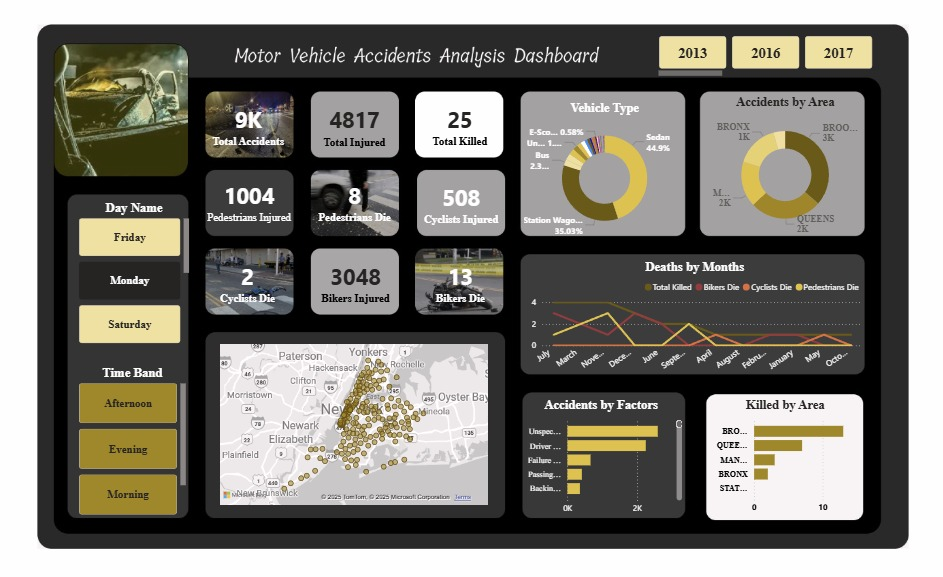

The dashboard page shown, as its layout file describes it:
{"tool":"powerbi","page":{"name":"Page 1","canvas":[1820,1096],"ordinal":0},"visuals":[{"type":"card","fields":{"Values":["Motor_Vehicle_Collisions_-_CrashesFINAL.Total Collison"]},"box":[509.3,270.7,141.3,76],"z":0},{"type":"card","fields":{"Values":["Motor_Vehicle_Collisions_-_CrashesFINAL.Total Injured"]},"box":[670.7,262.7,130.7,92],"z":1000},{"type":"card","fields":{"Values":["Motor_Vehicle_Collisions_-_CrashesFINAL.Total Killed"]},"box":[810.7,257.3,161.3,102.7],"z":2000},{"type":"card","fields":{"Values":["Motor_Vehicle_Collisions_-_CrashesFINAL.Pedestrians Injured"]},"box":[509.3,360,144,120],"z":3000},{"type":"card","fields":{"Values":["Motor_Vehicle_Collisions_-_CrashesFINAL.Pedestrians Die"]},"box":[648,357.3,174.7,124],"z":4000},{"type":"card","fields":{"Values":["Motor_Vehicle_Collisions_-_CrashesFINAL.Cyclists Injured"]},"box":[824.2,367.7,135.5,111.3],"z":5000},{"type":"card","fields":{"Values":["Motor_Vehicle_Collisions_-_CrashesFINAL.Bikers Die"]},"box":[829,493.5,125.8,90.3],"z":6000},{"type":"card","fields":{"Values":["Motor_Vehicle_Collisions_-_CrashesFINAL.Cyclists Die"]},"box":[509.7,479,135.5,119.4],"z":7000},{"type":"card","fields":{"Values":["Motor_Vehicle_Collisions_-_CrashesFINAL.Bikers Injured"]},"box":[650,453.2,174.2,171],"z":8000},{"type":"lineChart","title":"Deaths by Months","fields":{"Y":["Motor_Vehicle_Collisions_-_CrashesFINAL.Total Killed","Motor_Vehicle_Collisions_-_CrashesFINAL.Bikers Die","Motor_Vehicle_Collisions_-_CrashesFINAL.Cyclists Die","Motor_Vehicle_Collisions_-_CrashesFINAL.Pedestrians Die"],"Category":["Motor_Vehicle_Collisions_-_CrashesFINAL.Month Name"]},"box":[983.9,504.8,501.6,174.2],"z":9000},{"type":"donutChart","title":"Vehicle Type","fields":{"Category":["Motor_Vehicle_Collisions_-_CrashesFINAL.VEHICLE TYPE CODE 1"],"Y":["CountNonNull(Motor_Vehicle_Collisions_-_CrashesFINAL.VEHICLE TYPE CODE 1)"]},"box":[983.9,271,237.1,206.5],"z":10000},{"type":"barChart","title":"Accidents by Factors","fields":{"Category":["Motor_Vehicle_Collisions_-_CrashesFINAL.CONTRIBUTING FACTOR VEHICLE 1"],"Y":["Motor_Vehicle_Collisions_-_CrashesFINAL.Total Accidents"]},"box":[972.6,706.5,248.4,180.6],"z":11000},{"type":"advancedSlicerVisual","fields":{"Values":["Motor_Vehicle_Collisions_-_CrashesFINAL.Day Name"]},"box":[325.8,419.4,172.6,216.1],"z":12000},{"type":"advancedSlicerVisual","fields":{"Values":["Motor_Vehicle_Collisions_-_CrashesFINAL.Time Band"]},"box":[325.8,661.3,167.7,225.8],"z":13000},{"type":"map","fields":{"Category":["Motor_Vehicle_Collisions_-_CrashesFINAL.ZIP CODE"]},"box":[532.6,624.4,404,246.1],"z":14000},{"type":"advancedSlicerVisual","fields":{"Values":["Motor_Vehicle_Collisions_-_CrashesFINAL.Year"]},"box":[1177.2,170.8,325.1,71.6],"z":15000},{"type":"barChart","title":"Killed by Area","fields":{"Category":["Motor_Vehicle_Collisions_-_CrashesFINAL.BOROUGH"],"Y":["Motor_Vehicle_Collisions_-_CrashesFINAL.Total Killed"]},"box":[1250.6,707,235.1,180],"z":16000},{"type":"donutChart","title":"Accidents by Area","fields":{"Category":["Motor_Vehicle_Collisions_-_CrashesFINAL.BOROUGH"],"Y":["Motor_Vehicle_Collisions_-_CrashesFINAL.Total Accidents"]},"box":[1250.6,262.6,235.1,214.9],"z":17000}]}

Visuals, with their boxes in screenshot pixels (x1, y1, x2, y2), scaled from the page's 1820x1096 canvas onto the 943x577 screenshot:
card - Motor_Vehicle_Collisions_-_CrashesFINAL.Total Collison: <region>264, 143, 337, 183</region>
card - Motor_Vehicle_Collisions_-_CrashesFINAL.Total Injured: <region>348, 138, 415, 187</region>
card - Motor_Vehicle_Collisions_-_CrashesFINAL.Total Killed: <region>420, 135, 504, 190</region>
card - Motor_Vehicle_Collisions_-_CrashesFINAL.Pedestrians Injured: <region>264, 190, 338, 253</region>
card - Motor_Vehicle_Collisions_-_CrashesFINAL.Pedestrians Die: <region>336, 188, 426, 253</region>
card - Motor_Vehicle_Collisions_-_CrashesFINAL.Cyclists Injured: <region>427, 194, 497, 252</region>
card - Motor_Vehicle_Collisions_-_CrashesFINAL.Bikers Die: <region>430, 260, 495, 307</region>
card - Motor_Vehicle_Collisions_-_CrashesFINAL.Cyclists Die: <region>264, 252, 334, 315</region>
card - Motor_Vehicle_Collisions_-_CrashesFINAL.Bikers Injured: <region>337, 239, 427, 329</region>
"Deaths by Months" lineChart: <region>510, 266, 770, 357</region>
"Vehicle Type" donutChart: <region>510, 143, 633, 251</region>
"Accidents by Factors" barChart: <region>504, 372, 633, 467</region>
advancedSlicerVisual - Motor_Vehicle_Collisions_-_CrashesFINAL.Day Name: <region>169, 221, 258, 335</region>
advancedSlicerVisual - Motor_Vehicle_Collisions_-_CrashesFINAL.Time Band: <region>169, 348, 256, 467</region>
map - Motor_Vehicle_Collisions_-_CrashesFINAL.ZIP CODE: <region>276, 329, 485, 458</region>
advancedSlicerVisual - Motor_Vehicle_Collisions_-_CrashesFINAL.Year: <region>610, 90, 778, 128</region>
"Killed by Area" barChart: <region>648, 372, 770, 467</region>
"Accidents by Area" donutChart: <region>648, 138, 770, 251</region>
